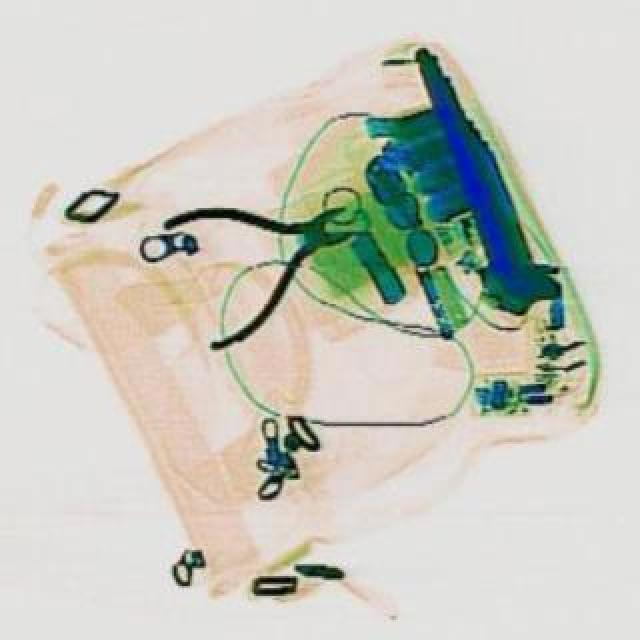wrench: (148, 154, 380, 352)
